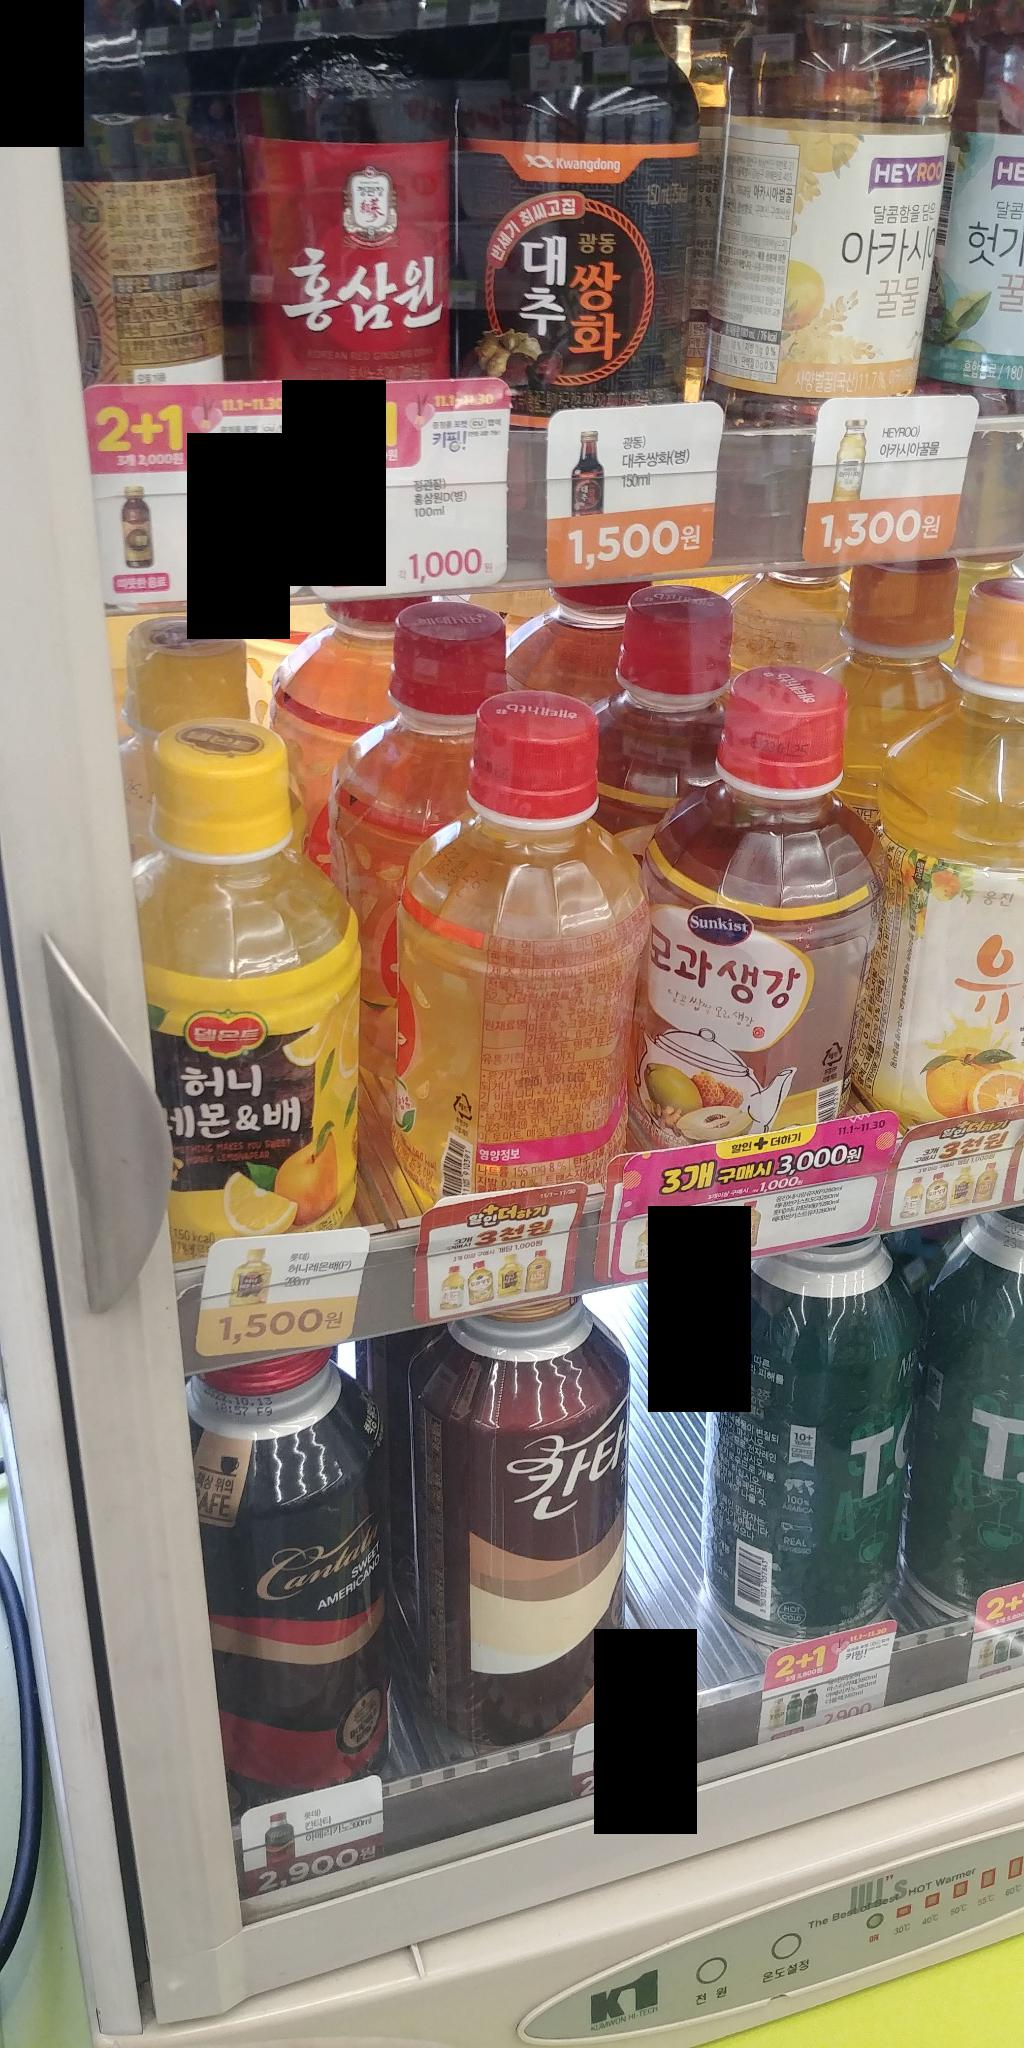honeyyuja: (381, 664, 633, 1208)
